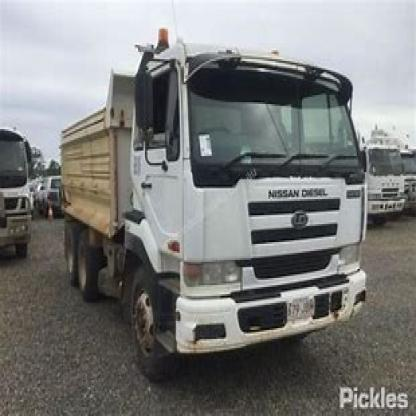dump_truck: (46, 27, 376, 373)
